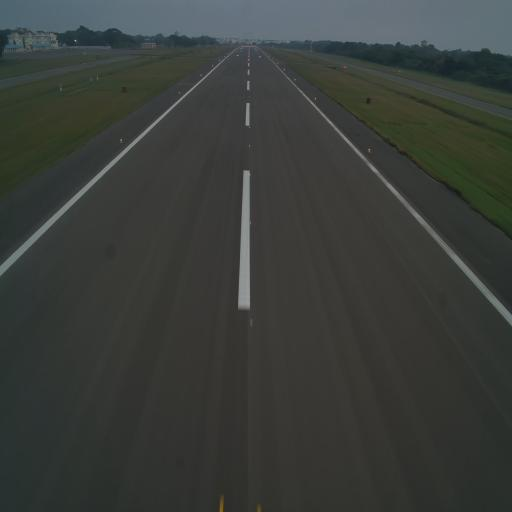on: (249, 316, 254, 329), (248, 218, 252, 228), (119, 135, 124, 143), (367, 146, 372, 154), (248, 123, 252, 131), (314, 94, 318, 101), (248, 171, 251, 179), (248, 143, 251, 150), (177, 90, 181, 95), (248, 111, 250, 117)
